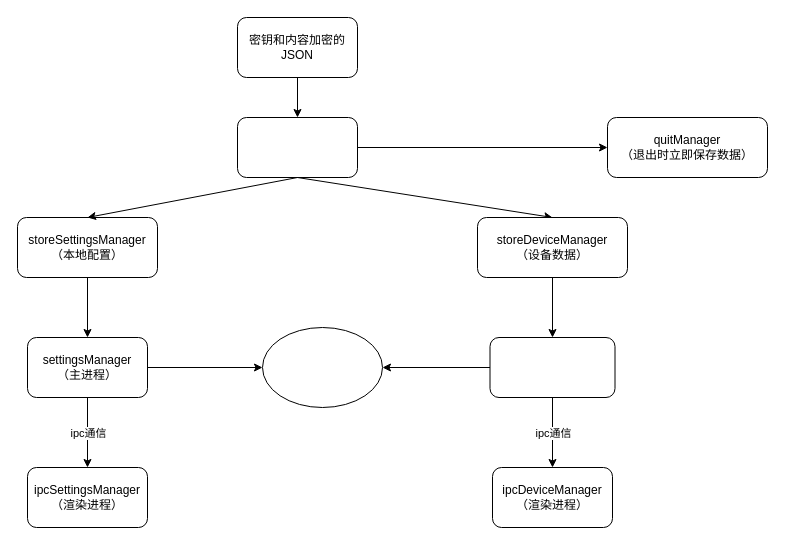
The diagram is 785 pixels wide and 545 high, and some of its shapes have lost their labels. Here are the shapes that lost their labels. From the top down, the centre of each, then its label:
At point (297, 147): "electronStorage （解析数据，控制本地数据的存取）".
At point (322, 367): "其他需要调用的模块".
At point (552, 367): "deviceManager (主进程)".
